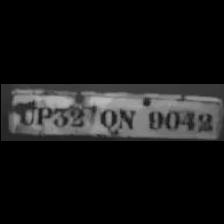0: (160, 103, 178, 130)
2: (63, 97, 87, 129), (194, 106, 214, 132)
3: (50, 96, 68, 128)
4: (176, 103, 196, 131)
9: (144, 104, 166, 130)
N: (116, 103, 136, 131)
P: (34, 96, 52, 128)
Q: (94, 99, 118, 131)
U: (12, 97, 32, 128)
